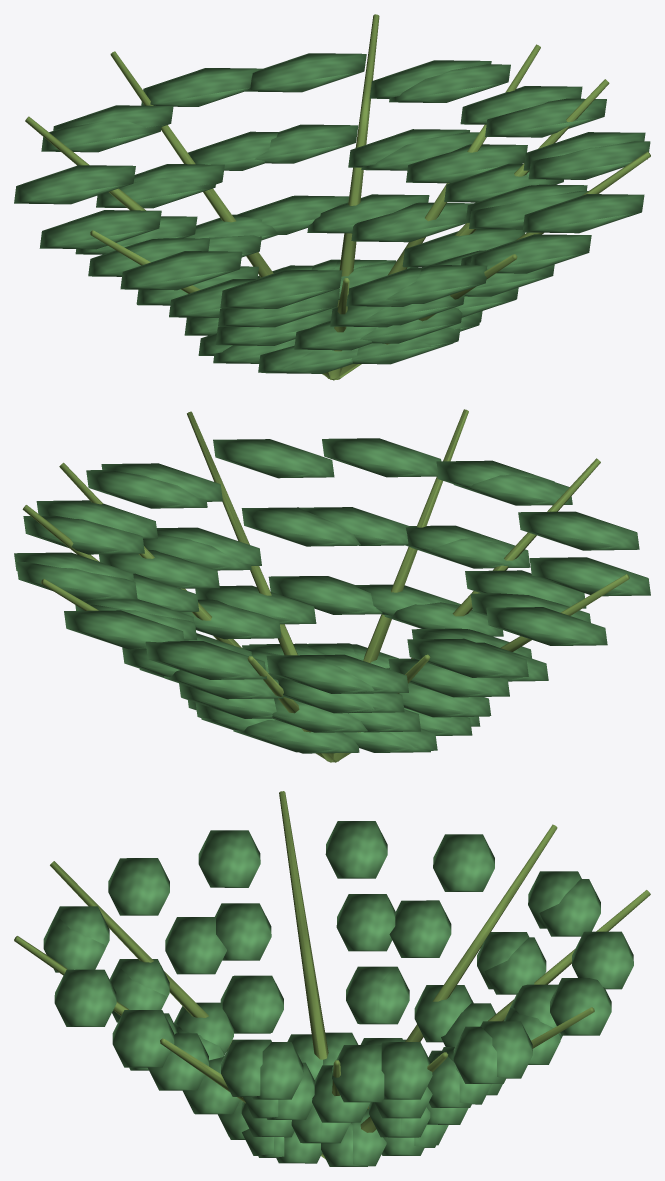
Rendered from fern_cluster.glb.
The picture shows the model from 3 angles, top to bottom: view 1: azimuth 30°, elevation 25°; view 2: azimuth 150°, elevation 25°; view 3: azimuth 270°, elevation 25°; orthographic projection. The views are drawn at different scales.
Parts seen in each view (by area): view 1: fern_cluster.001; view 2: fern_cluster.001; view 3: fern_cluster.001.
Part boxes in pixels (x1,y1,x2,y2): fern_cluster.001: (14,14,650,380); fern_cluster.001: (14,409,650,762); fern_cluster.001: (14,791,650,1166).
Size of the model in its own units: 1.67 by 0.6504 by 1.58.
Materials: 1 (1 with a texture image).
